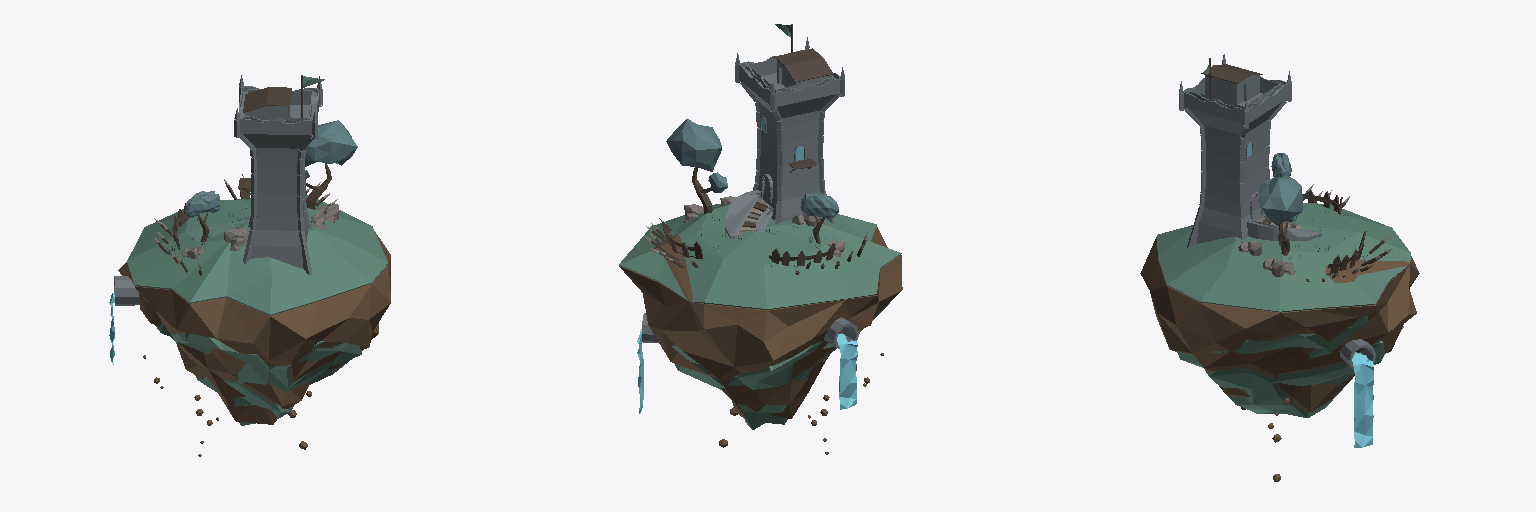
File: Tower.obj
3 views of the same model, side by side, from view 1: azimuth 30°, elevation 25°; view 2: azimuth 150°, elevation 25°; view 3: azimuth 270°, elevation 25° (orthographic).
Parts seen in each view (by area): view 1: Ground, Ground_1, Cube.2_3, Leaves_1, Cube_3, Leaves_2, Cylinder; view 2: Ground, Ground_1, Cube.2_3, Leaves_1, Cube_3, Plane_1, Extrude.2, Leaves_2, Cylinder; view 3: Ground, Ground_1, Cube.2_3, Leaves_1, Plane.1, Cube_4, Extrude.2, Cube_3, Cylinder.1.
Part boxes in pixels (x1,y1,x2,y2): Ground: (127, 195, 387, 425); Ground_1: (118, 232, 390, 424); Cube.2_3: (234, 75, 322, 275); Leaves_1: (305, 120, 357, 166); Cube_3: (243, 87, 291, 112); Leaves_2: (185, 191, 219, 217); Cylinder: (114, 276, 139, 305); Ground: (619, 204, 901, 429); Ground_1: (619, 226, 902, 422); Cube.2_3: (735, 37, 844, 223); Leaves_1: (666, 119, 721, 171); Cube_3: (774, 48, 833, 82); Plane_1: (839, 341, 857, 409); Extrude.2: (725, 190, 760, 238); Leaves_2: (800, 193, 838, 217); Cylinder: (824, 317, 858, 348); Ground: (1157, 203, 1410, 417); Ground_1: (1140, 237, 1419, 411); Cube.2_3: (1179, 54, 1291, 247); Leaves_1: (1259, 176, 1302, 225); Plane.1: (1354, 361, 1373, 447); Cube_4: (1205, 75, 1259, 103); Extrude.2: (1247, 219, 1321, 240); Cube_3: (1201, 64, 1262, 83); Cylinder.1: (1339, 339, 1375, 368).
Bounding box in the file's own units: 382 × 629 × 392.